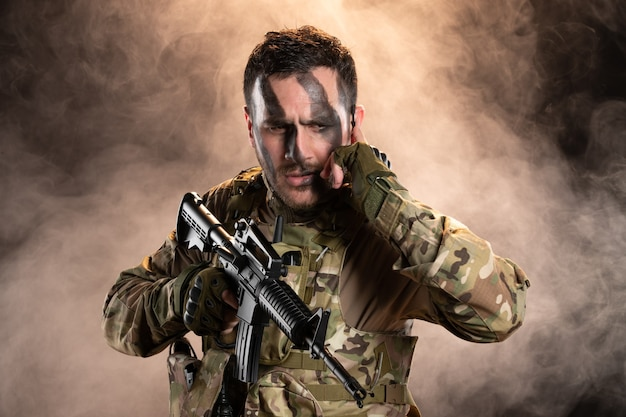gun: (173, 191, 366, 403)
